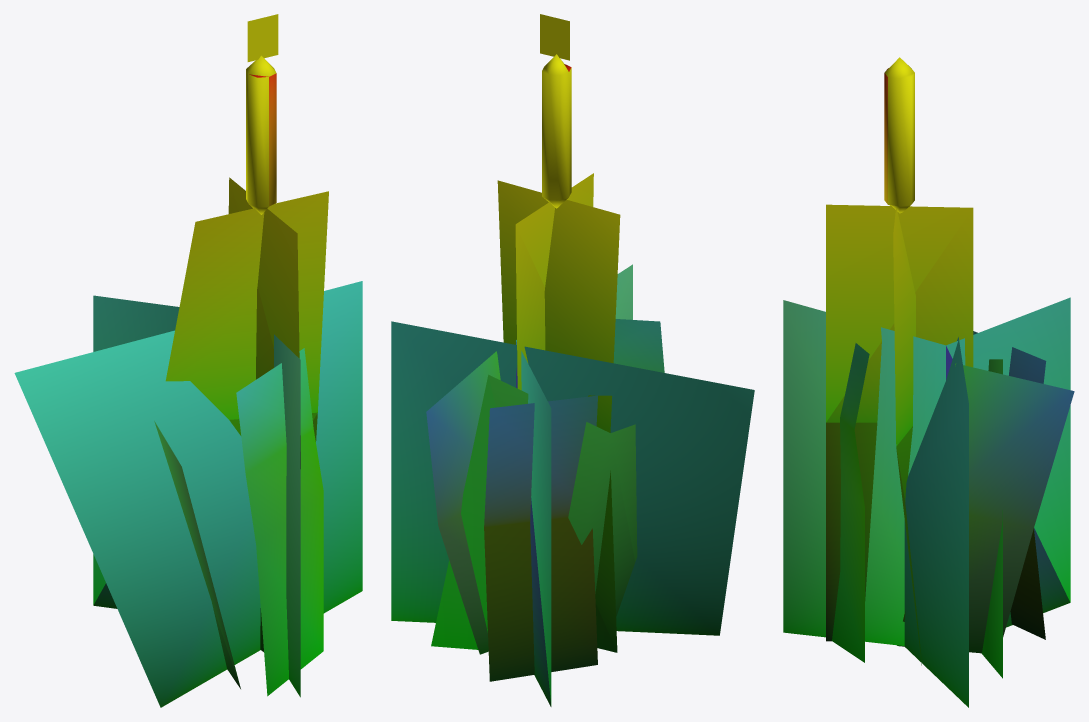
Rendered from plant_f_b_256.fbx.
3 renders of one model, left to right at view 1: azimuth 30°, elevation 25°; view 2: azimuth 150°, elevation 25°; view 3: azimuth 270°, elevation 25°, orthographic. The views are drawn at different scales.
Visible parts, largest first — view 1: plantfb256; view 2: plantfb256; view 3: plantfb256.
Boxes of the visible parts, bbox=[...] form: plantfb256: bbox=[14, 14, 362, 707]; plantfb256: bbox=[391, 14, 754, 706]; plantfb256: bbox=[783, 57, 1074, 707].
Bounding box in the file's own units: 1.22 × 2.04 × 0.8646.
